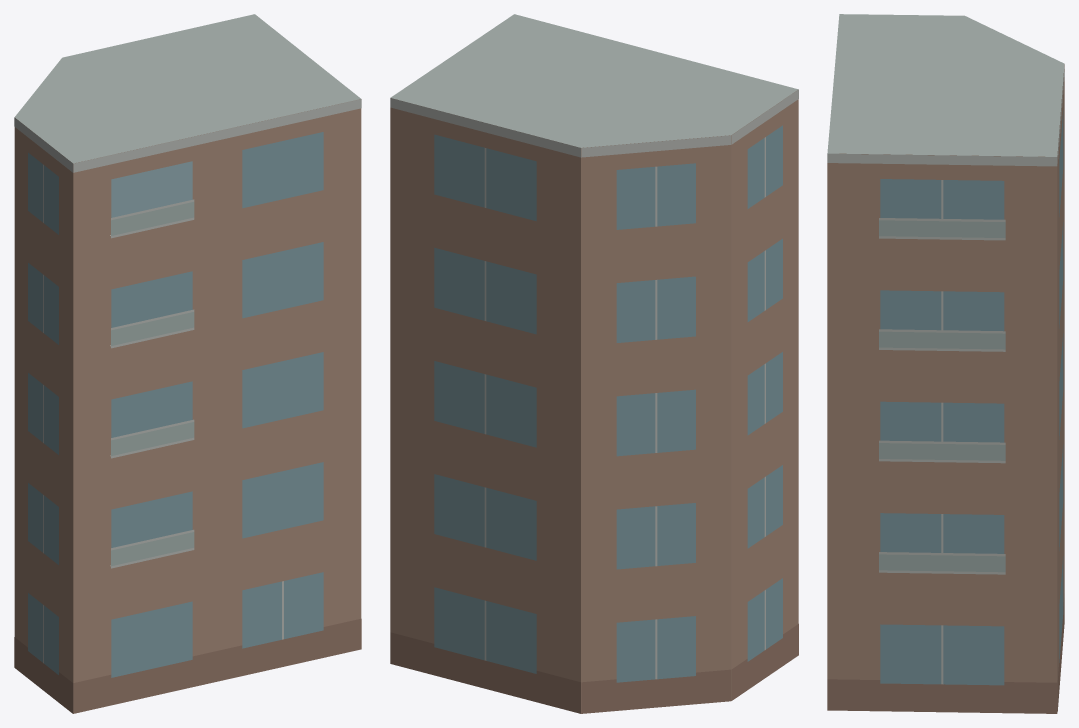
The model's file is survey-upis-32709758.glb.
The picture shows the model from 3 angles, left to right: view 1: azimuth 30°, elevation 25°; view 2: azimuth 150°, elevation 25°; view 3: azimuth 270°, elevation 25°; orthographic projection. The views are drawn at different scales.
Parts seen in each view (by area): view 1: survey-upis-32709758.tmp; view 2: survey-upis-32709758.tmp; view 3: survey-upis-32709758.tmp.
Boxes of the visible parts, left/top/right/bottom form: survey-upis-32709758.tmp: left=14, top=14, right=361, bottom=713; survey-upis-32709758.tmp: left=390, top=14, right=798, bottom=713; survey-upis-32709758.tmp: left=827, top=14, right=1064, bottom=713.
Bounding box in the file's own units: 7.88 × 14.3 × 5.53.
